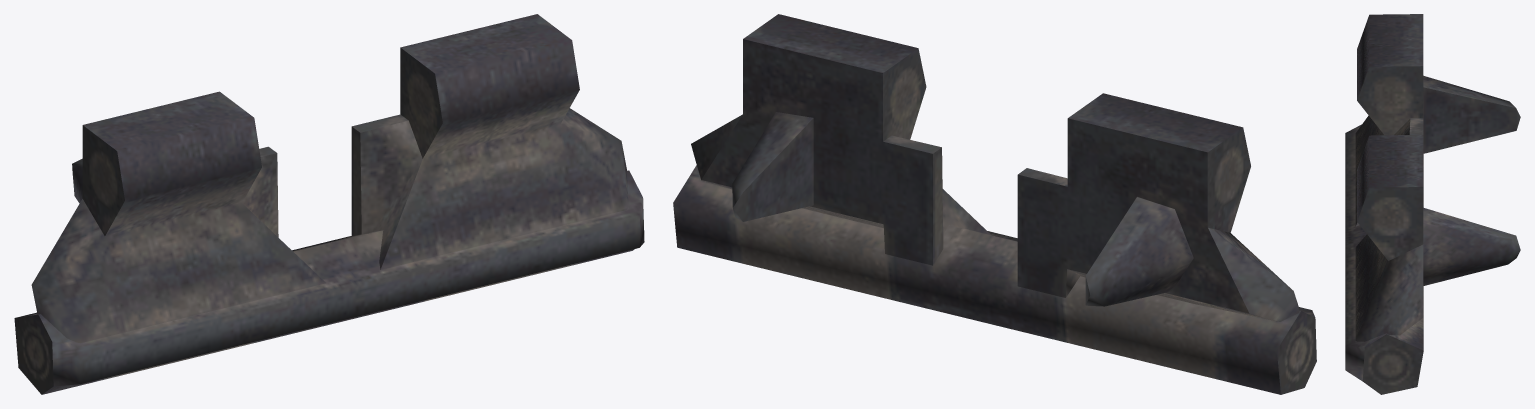
The picture shows the model from 3 angles, left to right: view 1: azimuth 30°, elevation 25°; view 2: azimuth 150°, elevation 25°; view 3: azimuth 270°, elevation 25°; orthographic projection. The views are drawn at different scales.
Parts seen in each view (by area): view 1: set_0_group_0; view 2: set_0_group_0; view 3: set_0_group_0.
Boxes of the visible parts, left/top/right/bottom form: set_0_group_0: left=14, top=14, right=644, bottom=394; set_0_group_0: left=673, top=14, right=1316, bottom=394; set_0_group_0: left=1345, top=14, right=1520, bottom=394.
Bounding box in the file's own units: 0.2546 × 0.0962 × 0.0841.
1 material, 1 textured.
